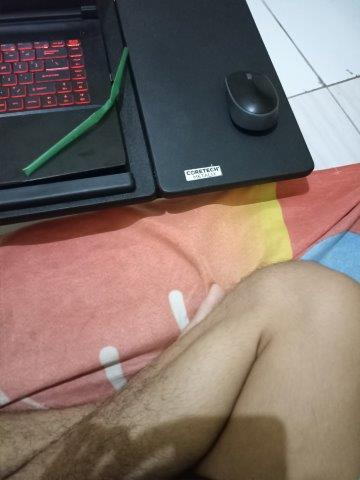sedotan: (24, 49, 129, 173)
